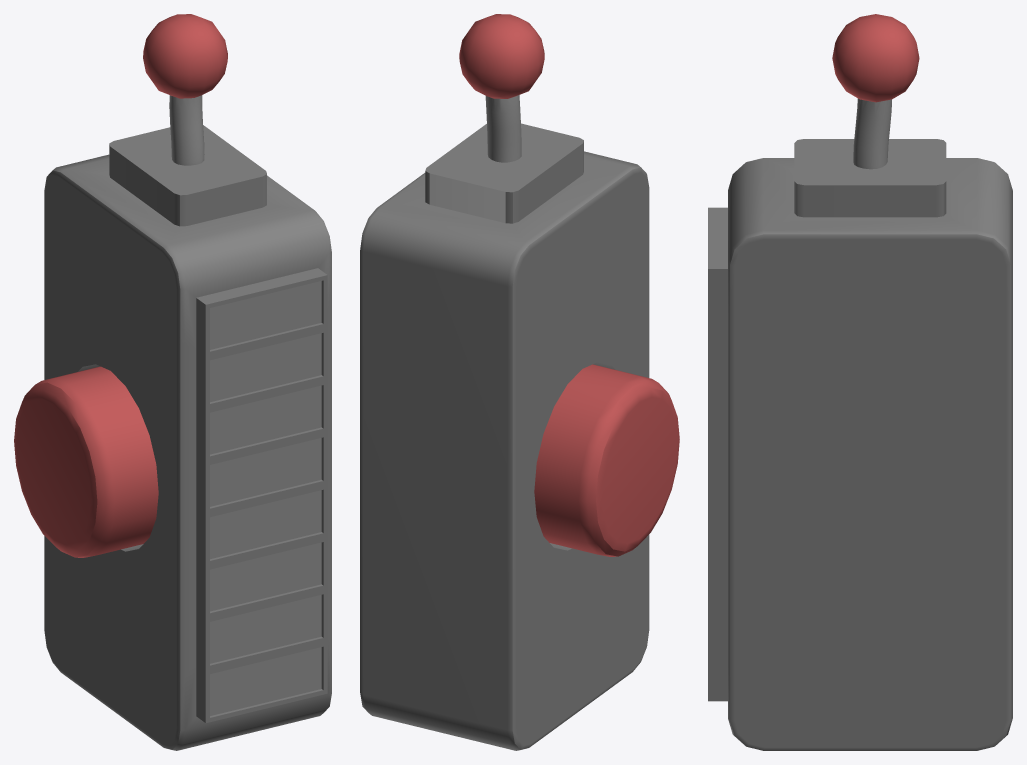
The model's file is Remote.fbx.
The picture shows the model from 3 angles, left to right: view 1: azimuth 30°, elevation 25°; view 2: azimuth 150°, elevation 25°; view 3: azimuth 270°, elevation 25°; orthographic projection. The views are drawn at different scales.
Parts seen in each view (by area): view 1: polySurface3; view 2: polySurface3; view 3: polySurface3.
Part boxes in pixels (x1,y1,x2,y2): polySurface3: (14,14,331,750); polySurface3: (360,14,679,750); polySurface3: (708,14,1012,750).
Size of the model in its own units: 2.55 by 7.73 by 3.07.
